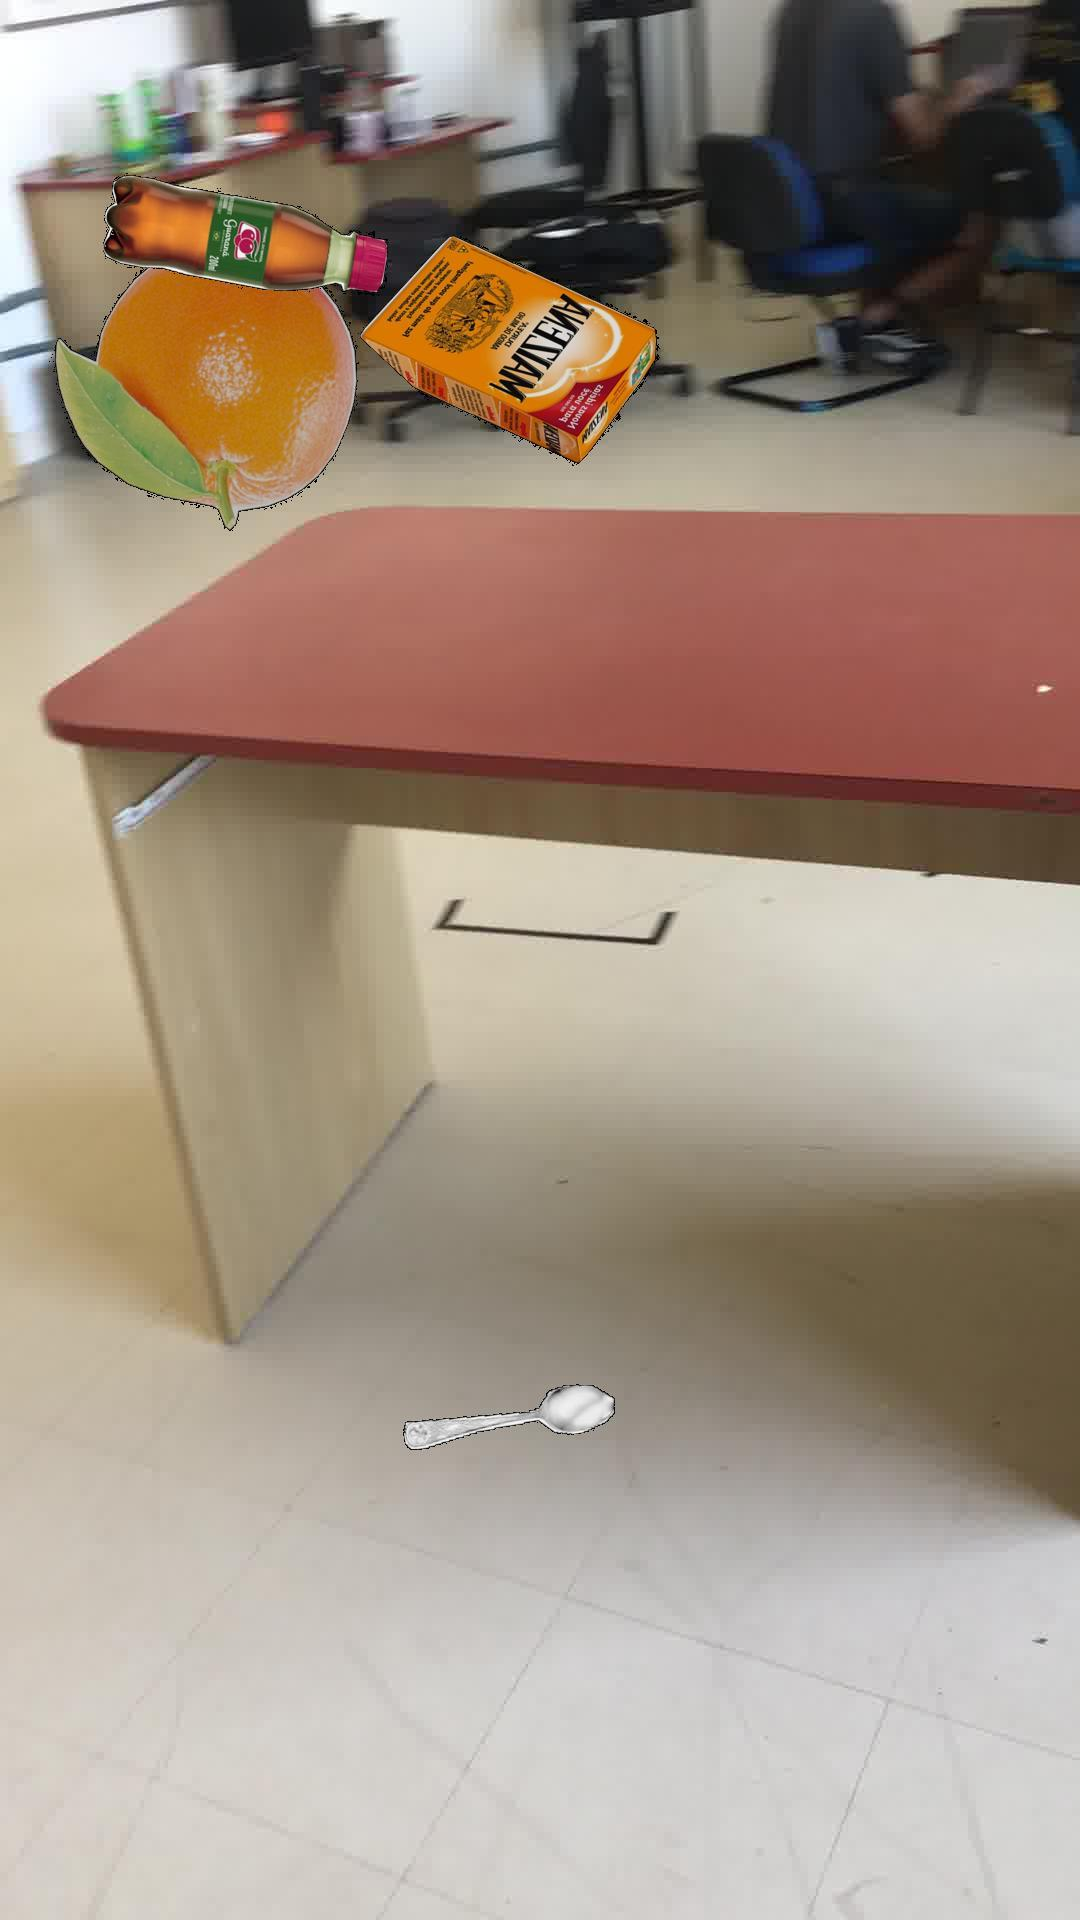guarana: (102, 174, 386, 294)
orange: (53, 266, 357, 530)
spoon: (401, 1383, 613, 1448)
